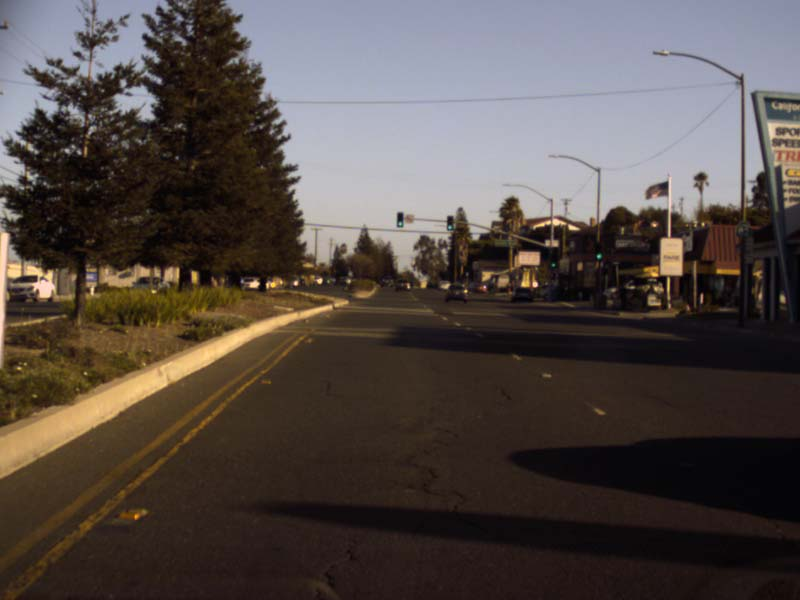Green: (594, 242, 602, 260), (396, 212, 403, 227), (446, 216, 452, 230), (550, 253, 555, 267)
